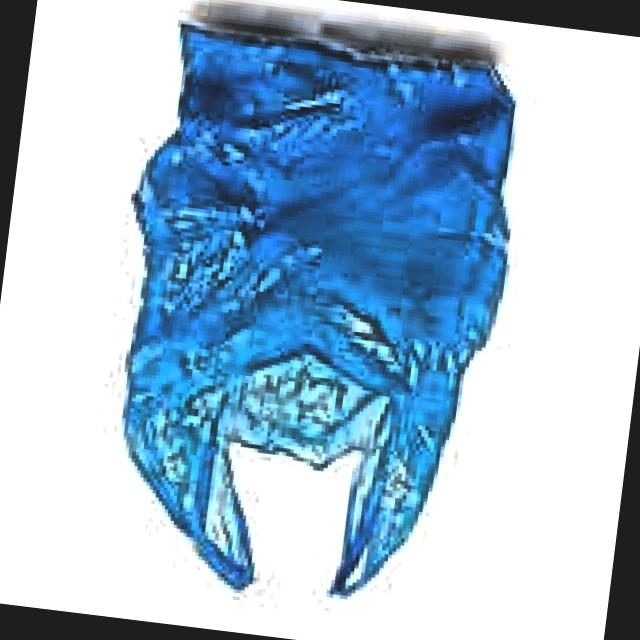plastic bag: (124, 28, 514, 596)
